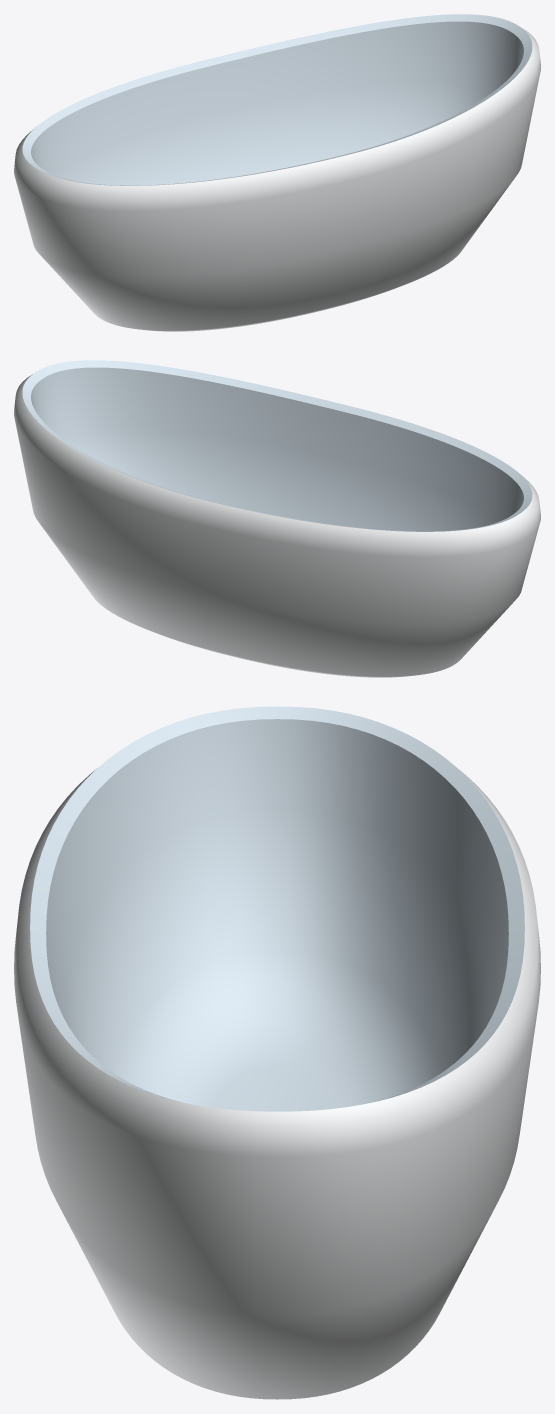
Rendered from banheira_oval_branca.glb.
The picture shows the model from 3 angles, top to bottom: view 1: azimuth 30°, elevation 25°; view 2: azimuth 150°, elevation 25°; view 3: azimuth 270°, elevation 25°; orthographic projection. The views are drawn at different scales.
Visible parts, largest first — view 1: banheira_oval_branca; view 2: banheira_oval_branca; view 3: banheira_oval_branca.
Part boxes in pixels (<box>): banheira_oval_branca: <box>14,14,540,331</box>; banheira_oval_branca: <box>14,360,540,677</box>; banheira_oval_branca: <box>14,706,540,1399</box>.
Bounding box in the file's own units: 1.68 × 0.6144 × 0.82.
1 material, 1 textured.
